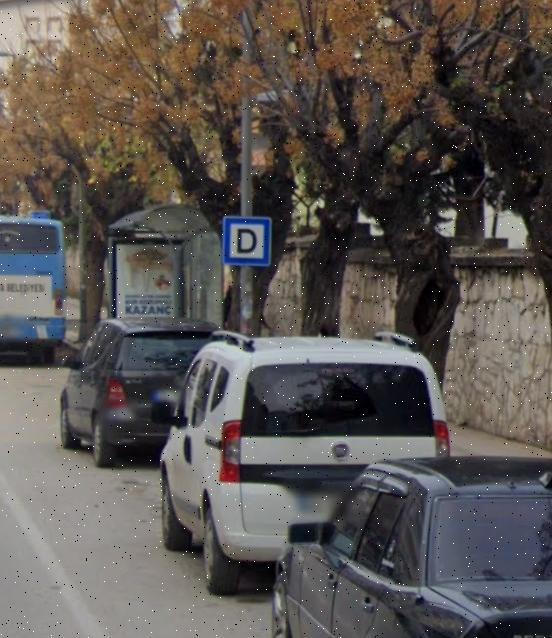station: (226, 217, 266, 260)
